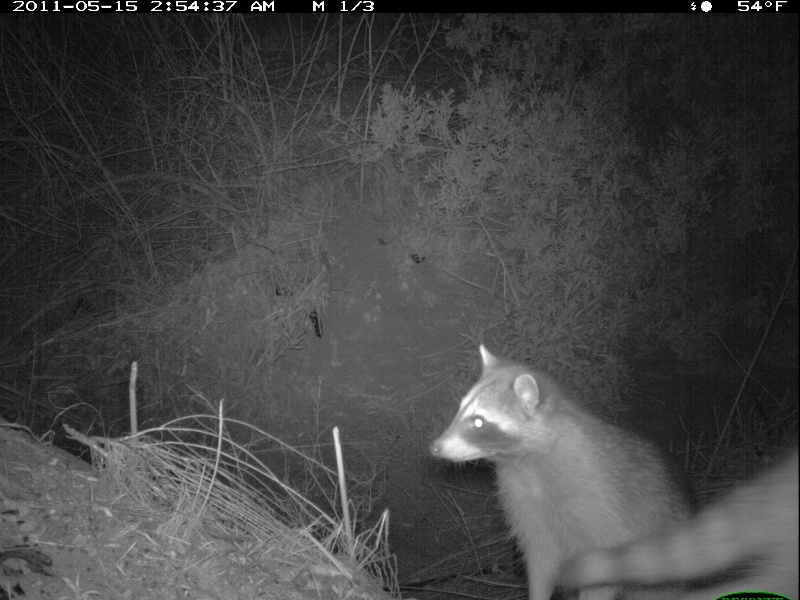raccoon: (429, 338, 705, 597)
